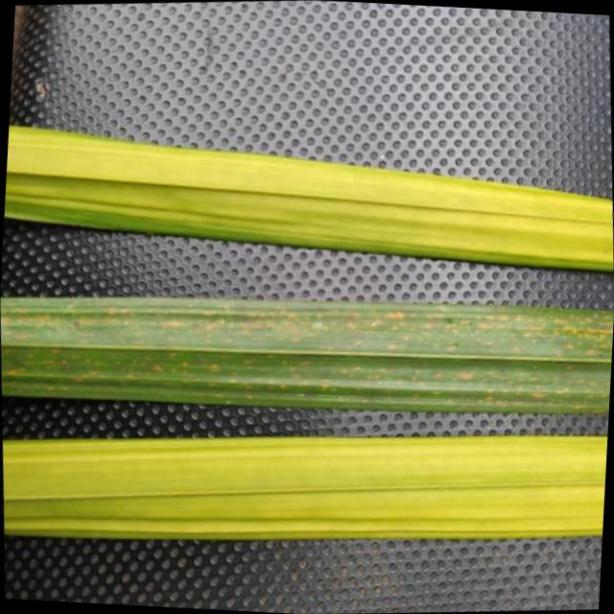nitrogen: (0, 118, 614, 267), (0, 292, 614, 416), (6, 430, 614, 545)
